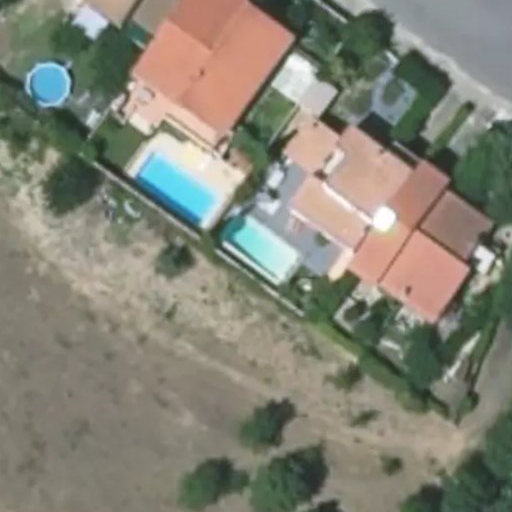pool: (219, 234, 295, 248)
